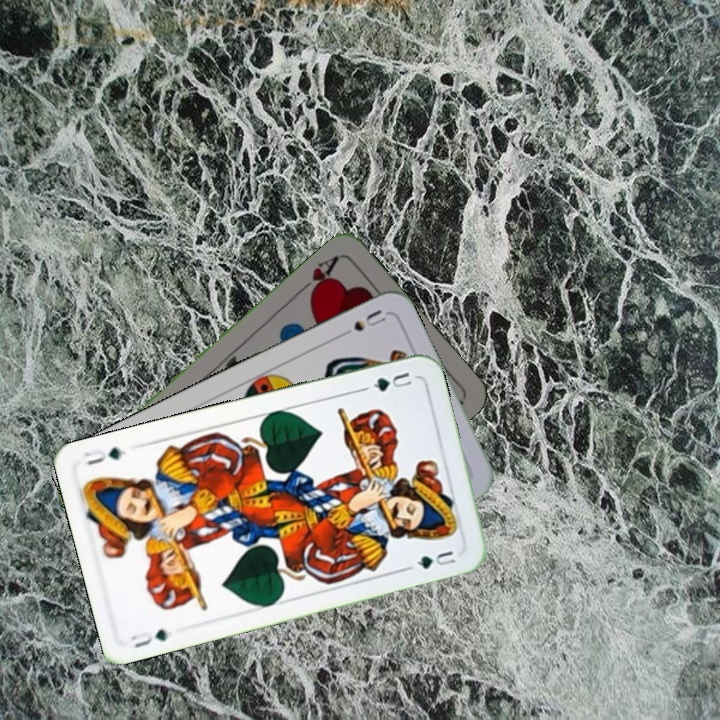GU: (359, 368, 415, 395), (127, 624, 170, 650)
HA: (294, 251, 342, 301)
SU: (334, 305, 389, 341)
